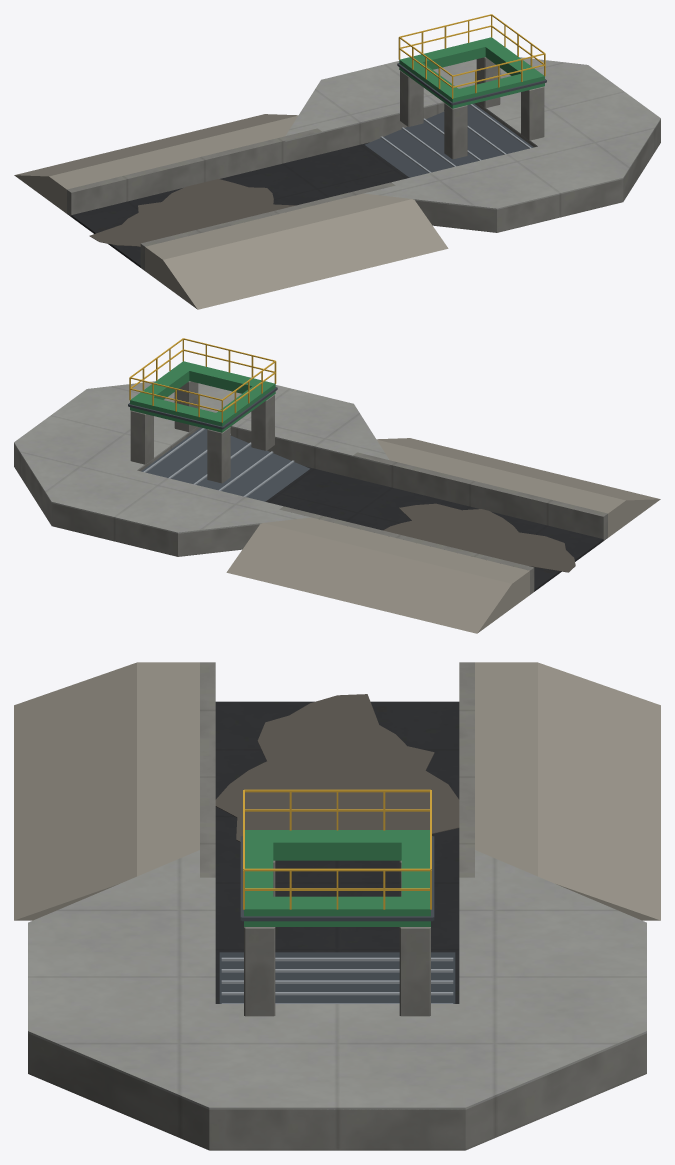
Rendered from pit.glb.
The picture shows the model from 3 angles, top to bottom: view 1: azimuth 30°, elevation 25°; view 2: azimuth 150°, elevation 25°; view 3: azimuth 270°, elevation 25°; orthographic projection. The views are drawn at different scales.
Parts seen in each view (by area): view 1: hardstand, pit; view 2: hardstand, pit; view 3: hardstand, pit.
Boxes of the visible parts, x1,y1,x2,y2 form: hardstand: [14, 57, 660, 309]; pit: [365, 14, 546, 177]; hardstand: [14, 381, 660, 633]; pit: [128, 338, 309, 501]; hardstand: [14, 662, 660, 1150]; pit: [219, 789, 455, 1016].
Bounding box in the file's own units: 27.15 × 5.33 × 16.42.
Materials: 9 (3 with a texture image).
